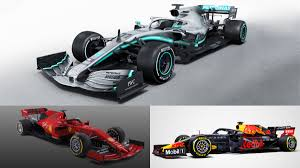FormulaOneCar: (27, 1, 259, 100), (14, 105, 147, 165), (151, 117, 299, 161)
